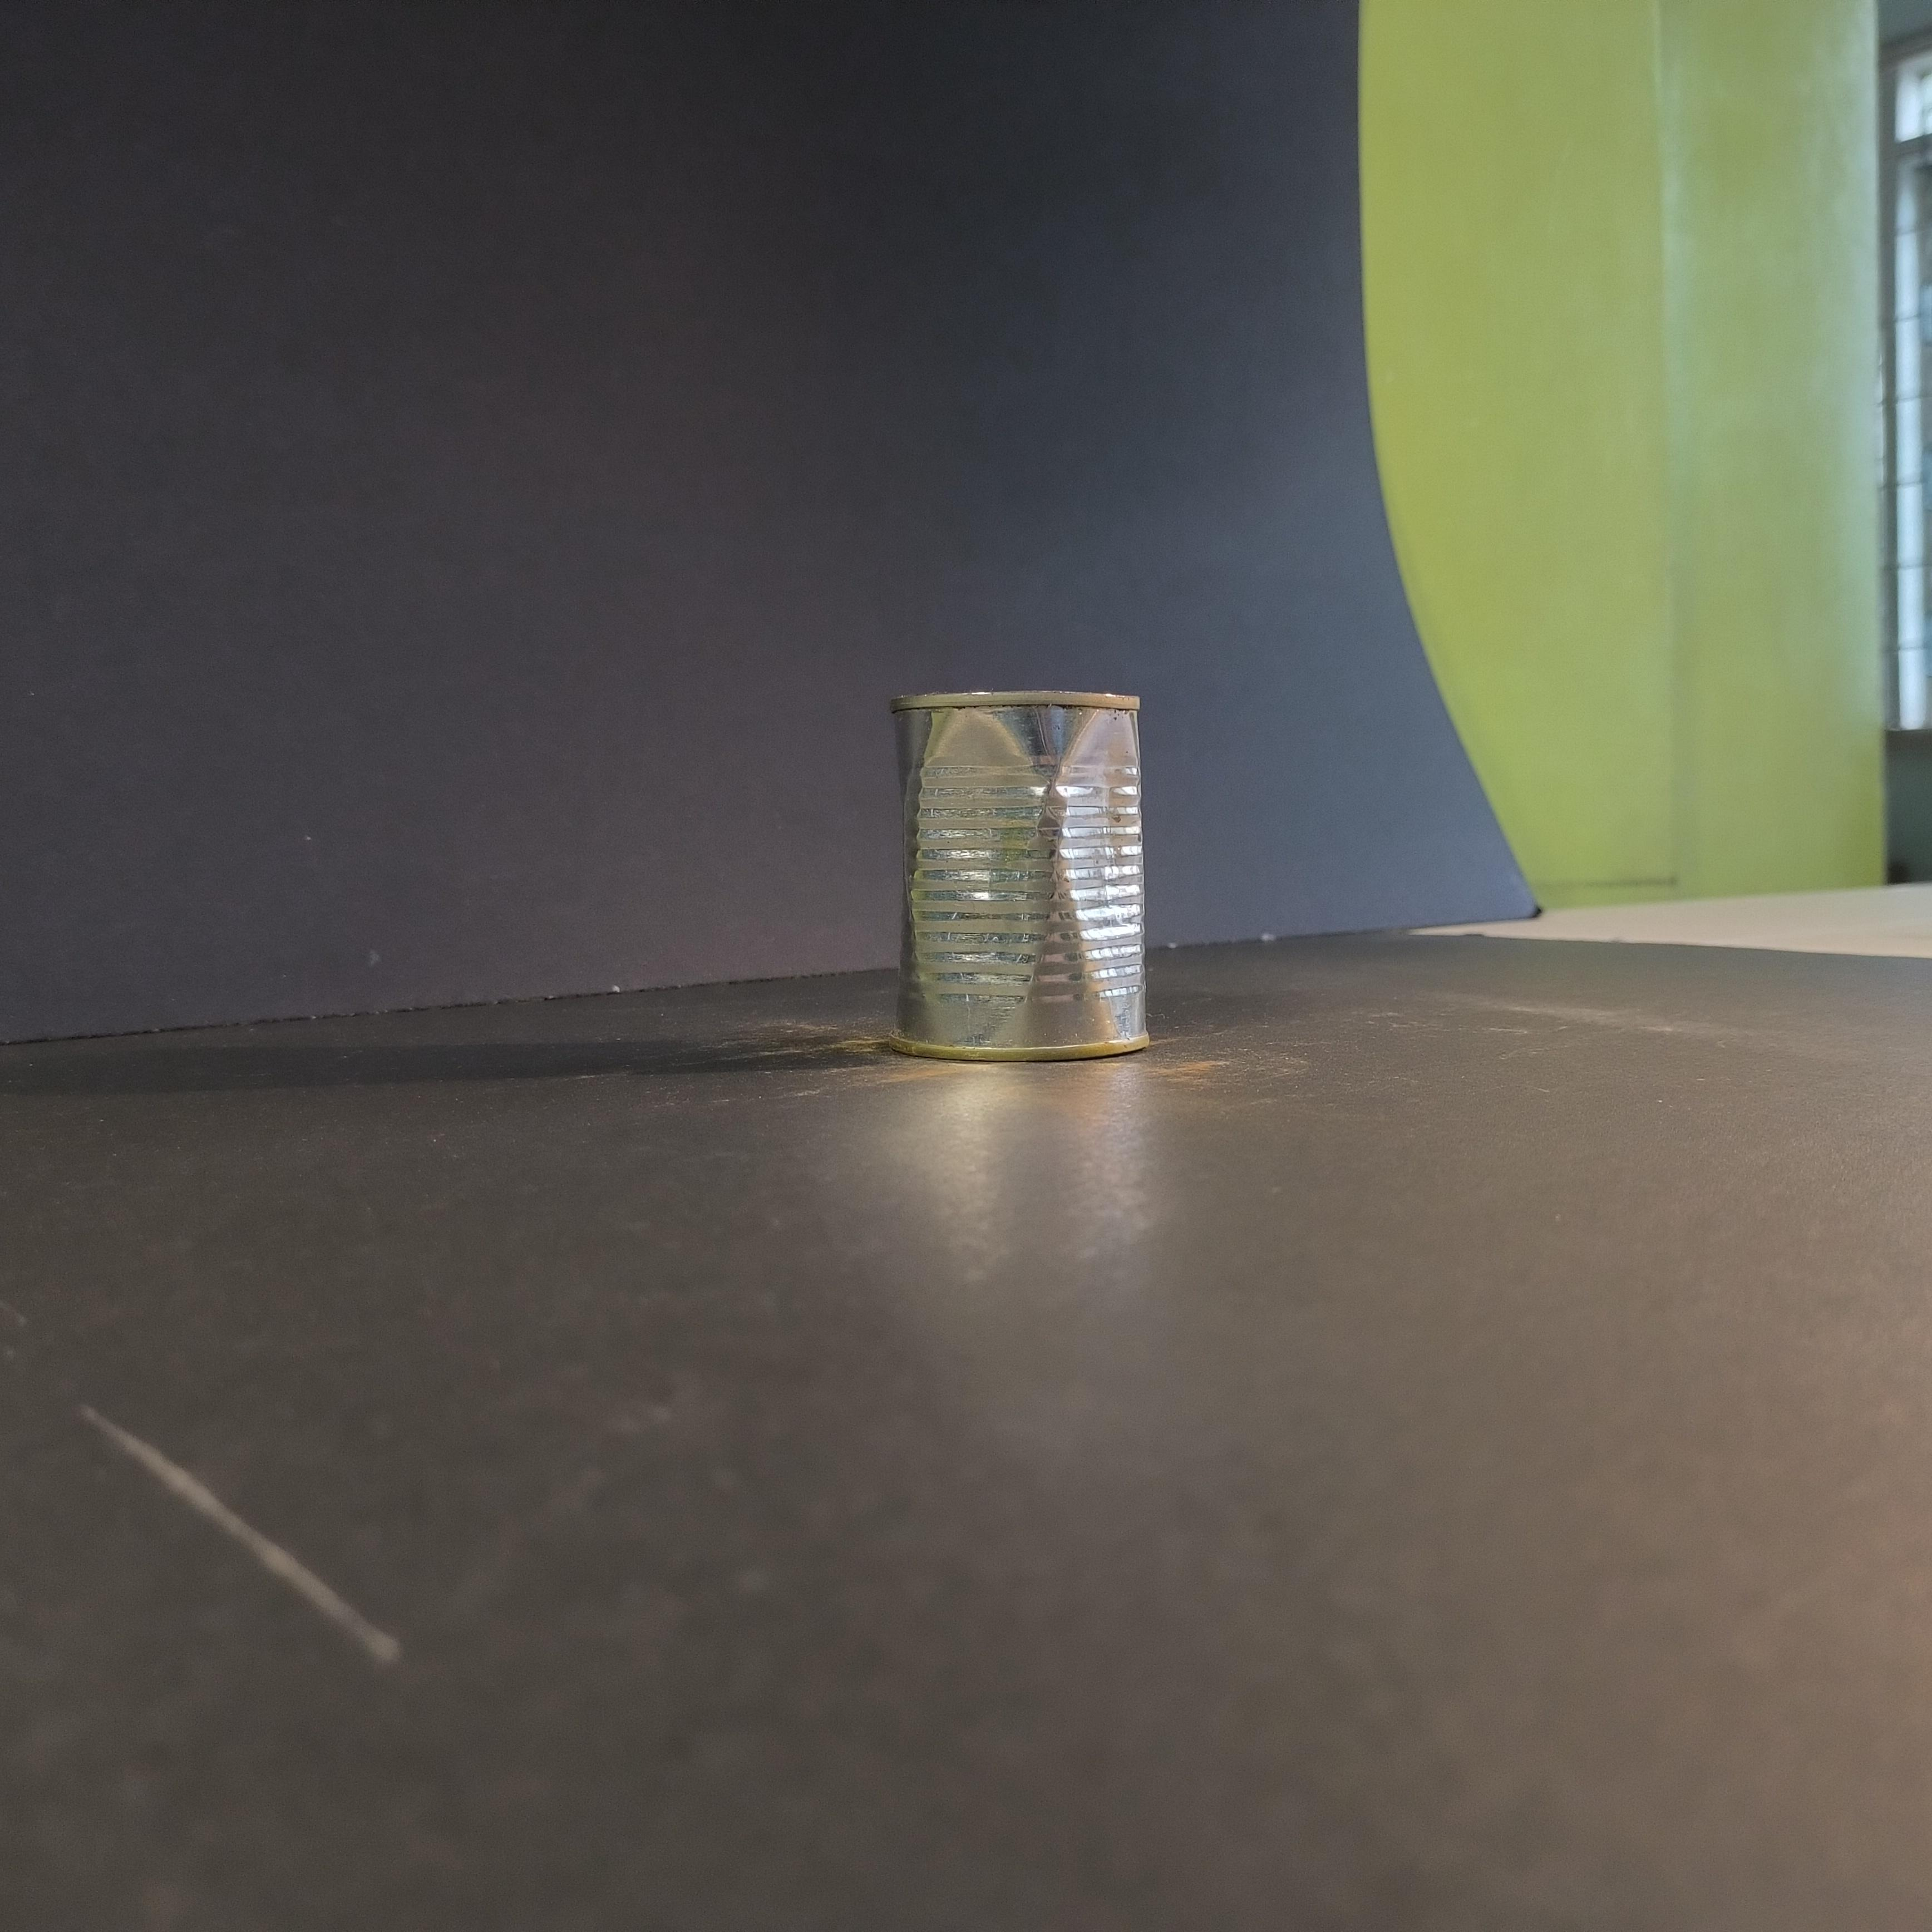Dented: (865, 656, 1161, 1079)
